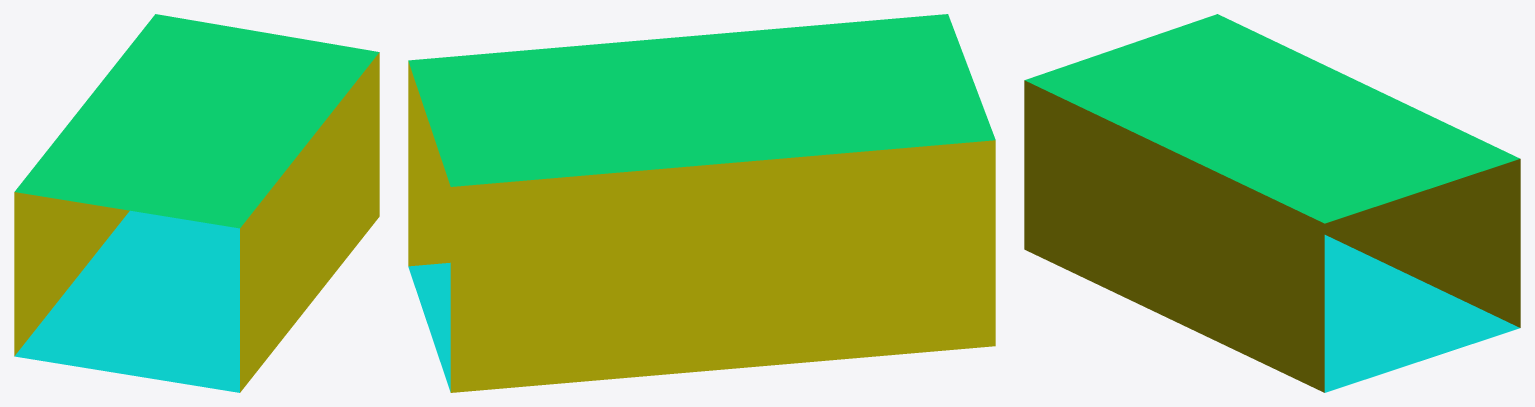
File: FashionR-Corridor-NeutralR.fbx
3 renders of one model, left to right at view 1: azimuth 30°, elevation 25°; view 2: azimuth 150°, elevation 25°; view 3: azimuth 270°, elevation 25°, orthographic. The views are drawn at different scales.
Parts seen in each view (by area): view 1: Museum_complete_Blockout:Corridor; view 2: Museum_complete_Blockout:Corridor; view 3: Museum_complete_Blockout:Corridor.
Boxes of the visible parts, x1,y1,x2,y2 form: Museum_complete_Blockout:Corridor: (14, 14, 379, 392); Museum_complete_Blockout:Corridor: (408, 14, 995, 392); Museum_complete_Blockout:Corridor: (1024, 14, 1520, 392).
Size of the model in its own units: 2732 by 1029 by 2732.
